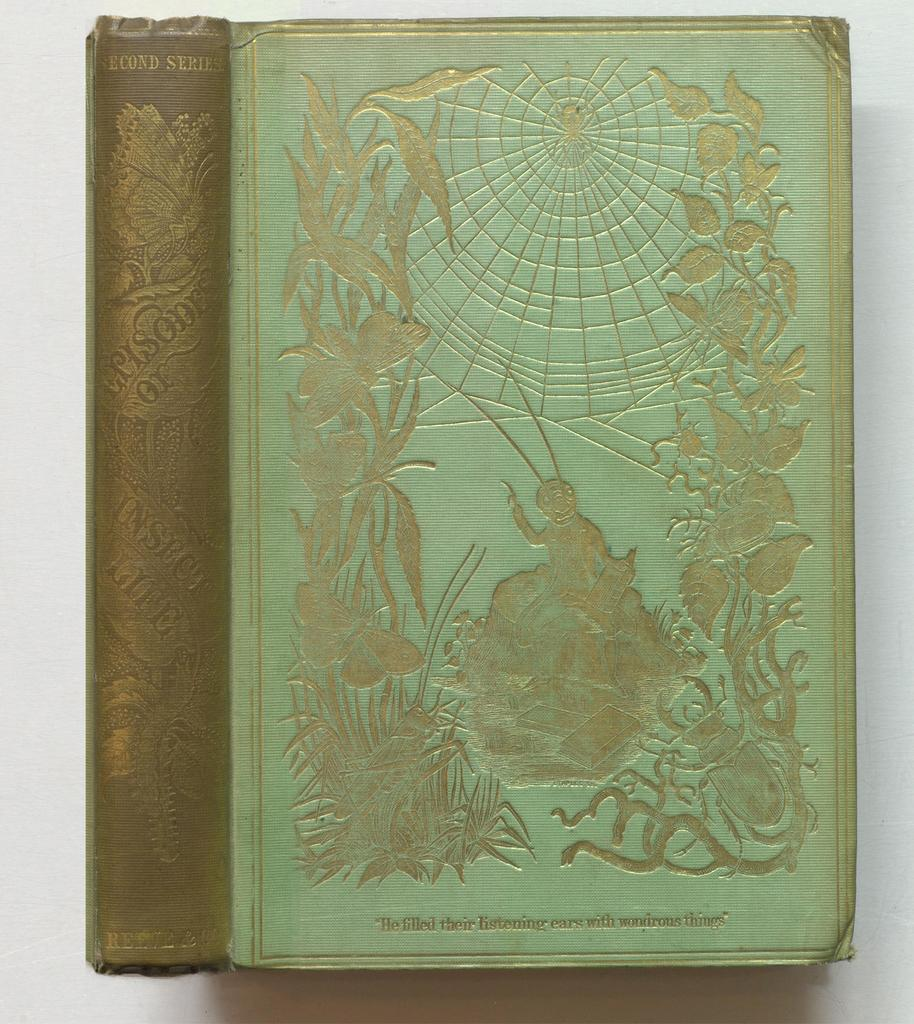book: (38, 93, 824, 969)
